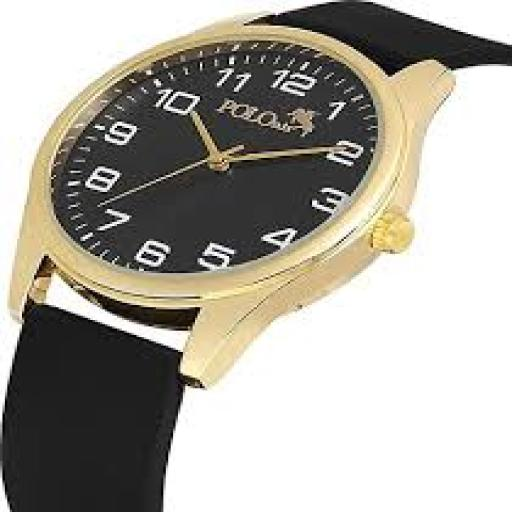KolSaati: (2, 2, 504, 506)
